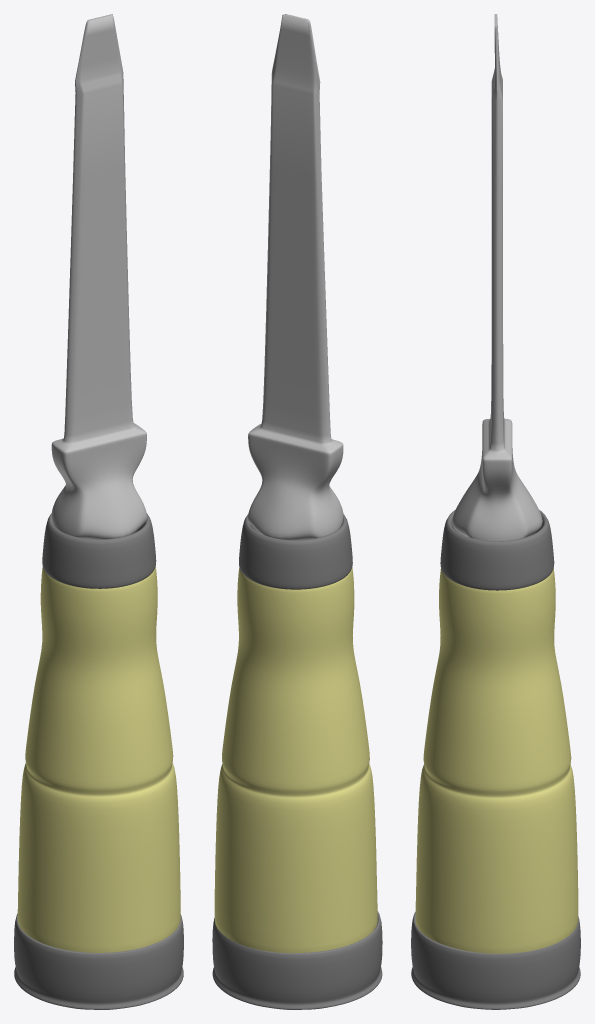
Rendered from Chisel.fbx.
3 renders of one model, left to right at view 1: azimuth 30°, elevation 25°; view 2: azimuth 150°, elevation 25°; view 3: azimuth 270°, elevation 25°, orthographic.
Parts seen in each view (by area): view 1: Wood_Handle, Chisel, Glossy_ends; view 2: Wood_Handle, Chisel, Glossy_ends; view 3: Wood_Handle, Glossy_ends, Chisel.
Boxes of the visible parts, x1,y1,x2,y2 form: Wood_Handle: (17,566,180,952); Chisel: (51,14,147,539); Glossy_ends: (14,513,183,1009); Wood_Handle: (214,567,377,953); Chisel: (247,14,343,540); Glossy_ends: (212,514,382,1009); Wood_Handle: (415,568,578,953); Glossy_ends: (411,510,580,1009); Chisel: (452,14,542,541).
Bounding box in the file's own units: 96.47 × 600 × 96.47.
